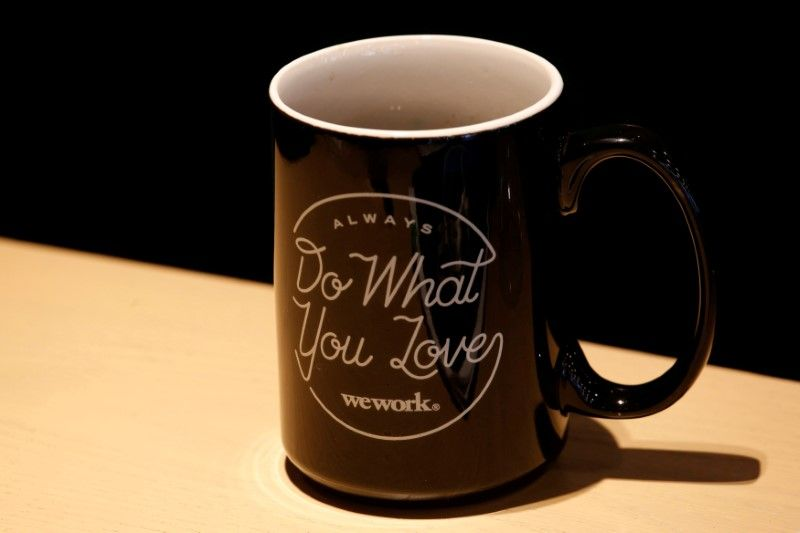wework: (338, 388, 432, 414)
